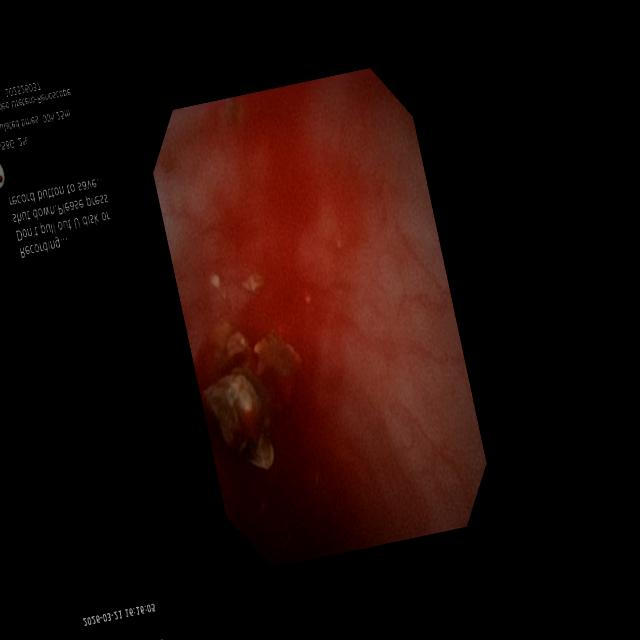stone-new: (203, 368, 273, 468), (254, 331, 299, 377), (226, 331, 249, 357)
